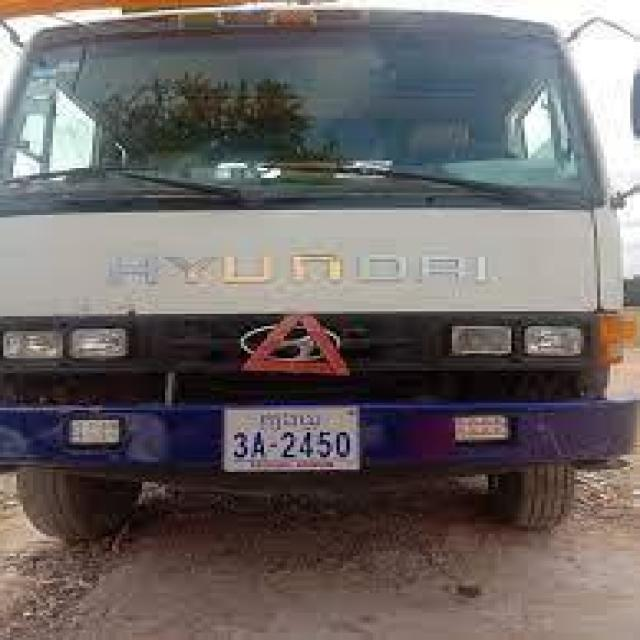Tboung_Khmum: (261, 410, 325, 432)
